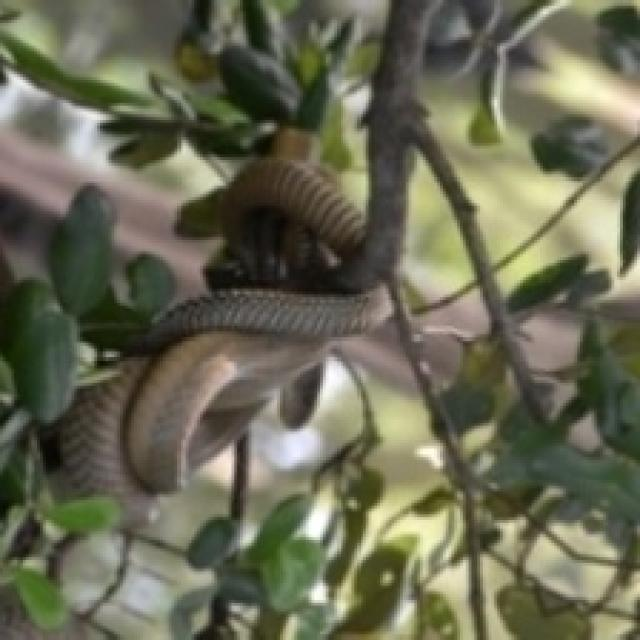king cobra: (60, 160, 389, 523)
